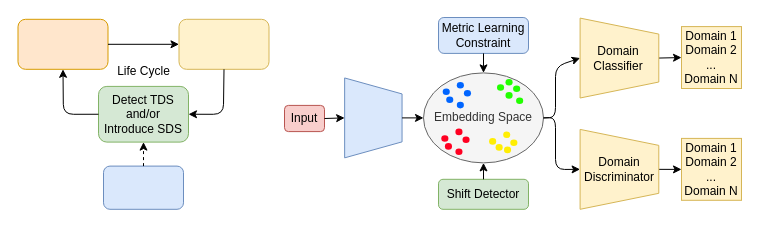
This 759x227 diagram has some shape labels left out. Here are the shapes that lost their labels. From the top down, the centre of each, then its label:
pixel 62 43: Determine Domains to Adapt
pixel 223 43: Adapt to the Domains
pixel 373 117: DNN Encoder
pixel 143 187: Source Data Model
